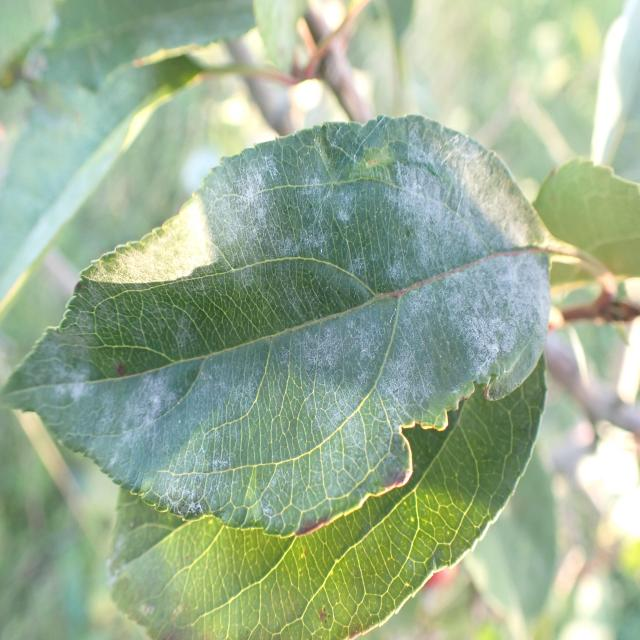Powdery_mildew: (47, 111, 586, 536)
